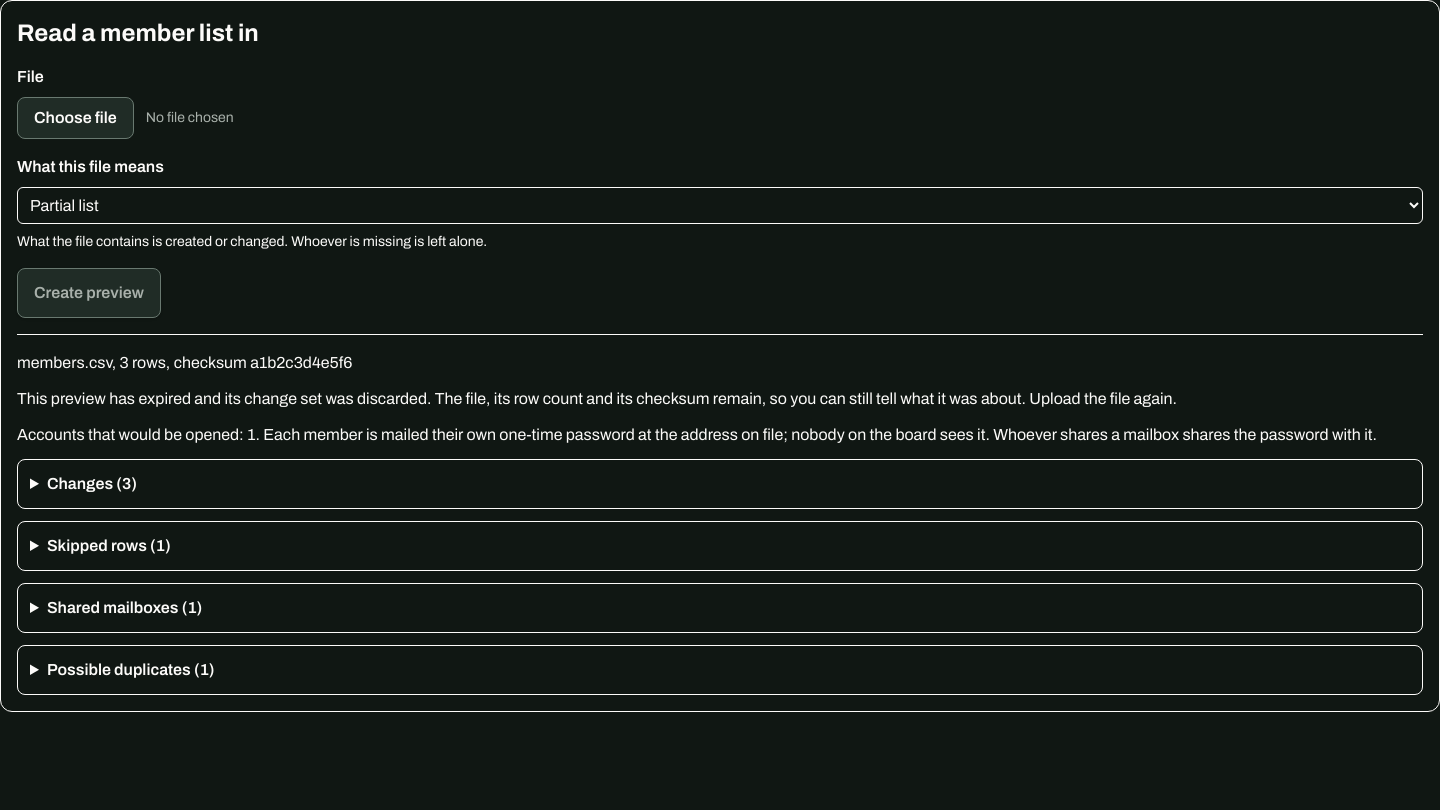
Test: ImportPreviewPanel › given an unknown row error, when the preview is read, then it says this page does not know the reason yet
Click the heading with test id "row-errors-heading".
click(109, 546)  # box [47, 537, 171, 554]
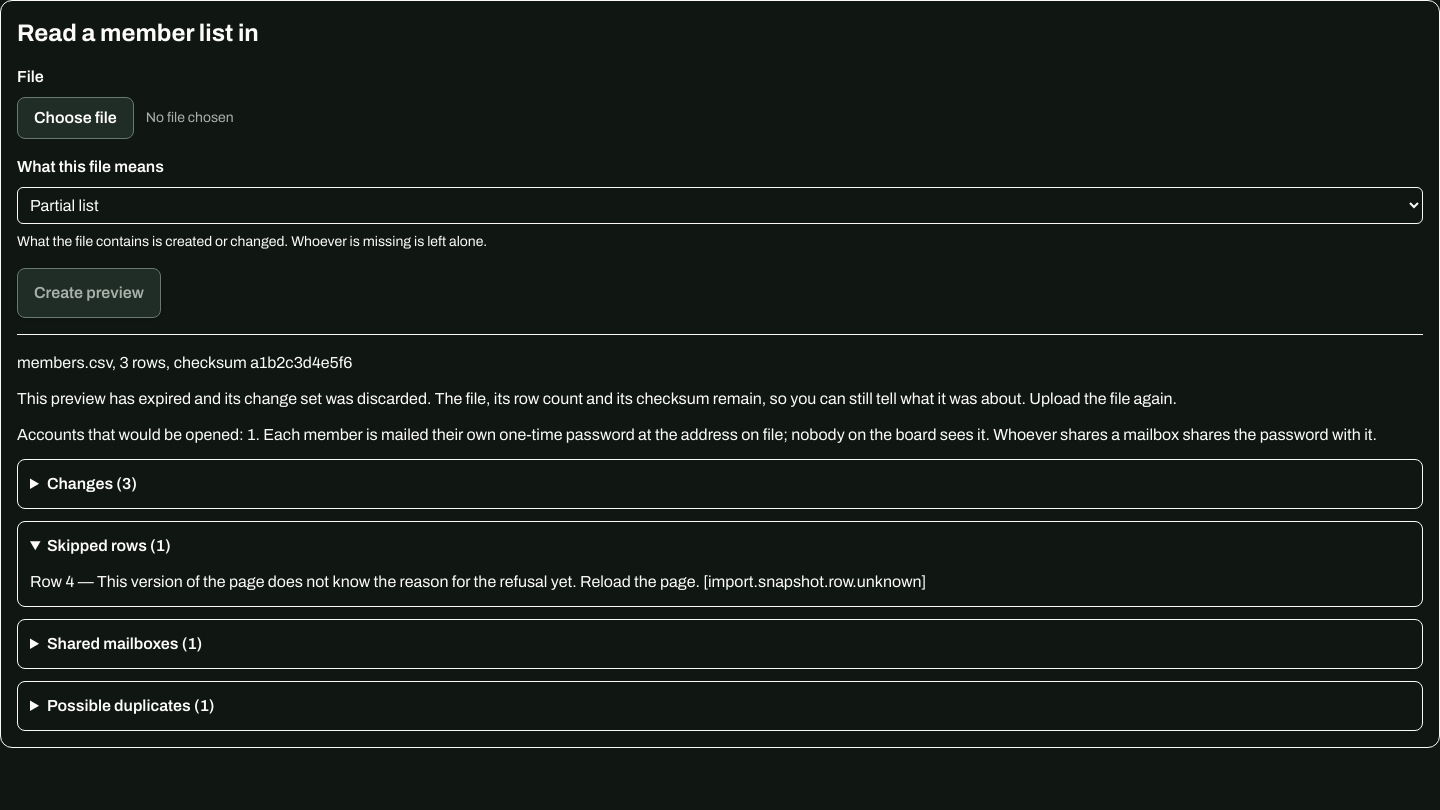
expect the list item with test id "row-error-4" does not show "That did not work.": met, box [30, 573, 926, 590]
expect the list item with test id "row-error-4" shows "This version of the page does not know the reason for the refusal yet.": met, box [97, 573, 926, 590]
